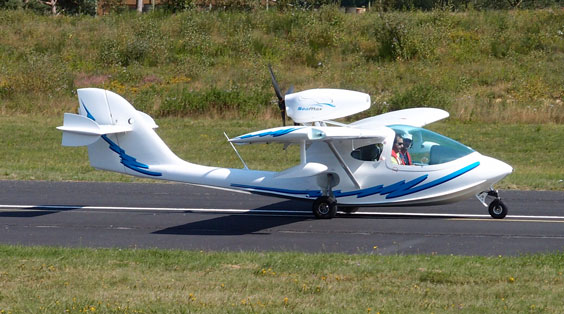Aeronef_de_loisir: (53, 60, 521, 226)
